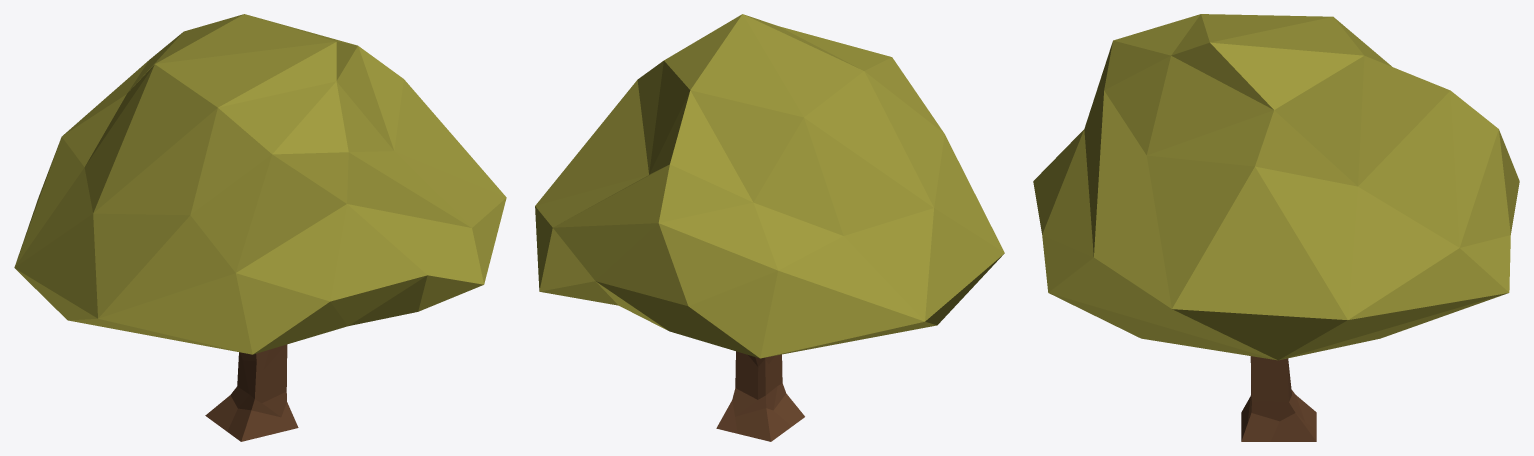
File: Tree_24_Yellow.fbx
3 views of the same model, side by side, from view 1: azimuth 30°, elevation 25°; view 2: azimuth 150°, elevation 25°; view 3: azimuth 270°, elevation 25° (orthographic). The views are drawn at different scales.
Parts seen in each view (by area): view 1: Tree_24_Yellow_Part_1, Tree_24_Yellow_Part_2; view 2: Tree_24_Yellow_Part_1, Tree_24_Yellow_Part_2; view 3: Tree_24_Yellow_Part_1, Tree_24_Yellow_Part_2.
Part boxes in pixels (x1,y1,x2,y2): Tree_24_Yellow_Part_1: (14, 14, 506, 354); Tree_24_Yellow_Part_2: (205, 344, 298, 441); Tree_24_Yellow_Part_1: (535, 14, 1004, 358); Tree_24_Yellow_Part_2: (716, 351, 804, 441); Tree_24_Yellow_Part_1: (1033, 14, 1519, 360); Tree_24_Yellow_Part_2: (1241, 356, 1316, 441).
Size of the model in its own units: 806 by 738 by 791.
